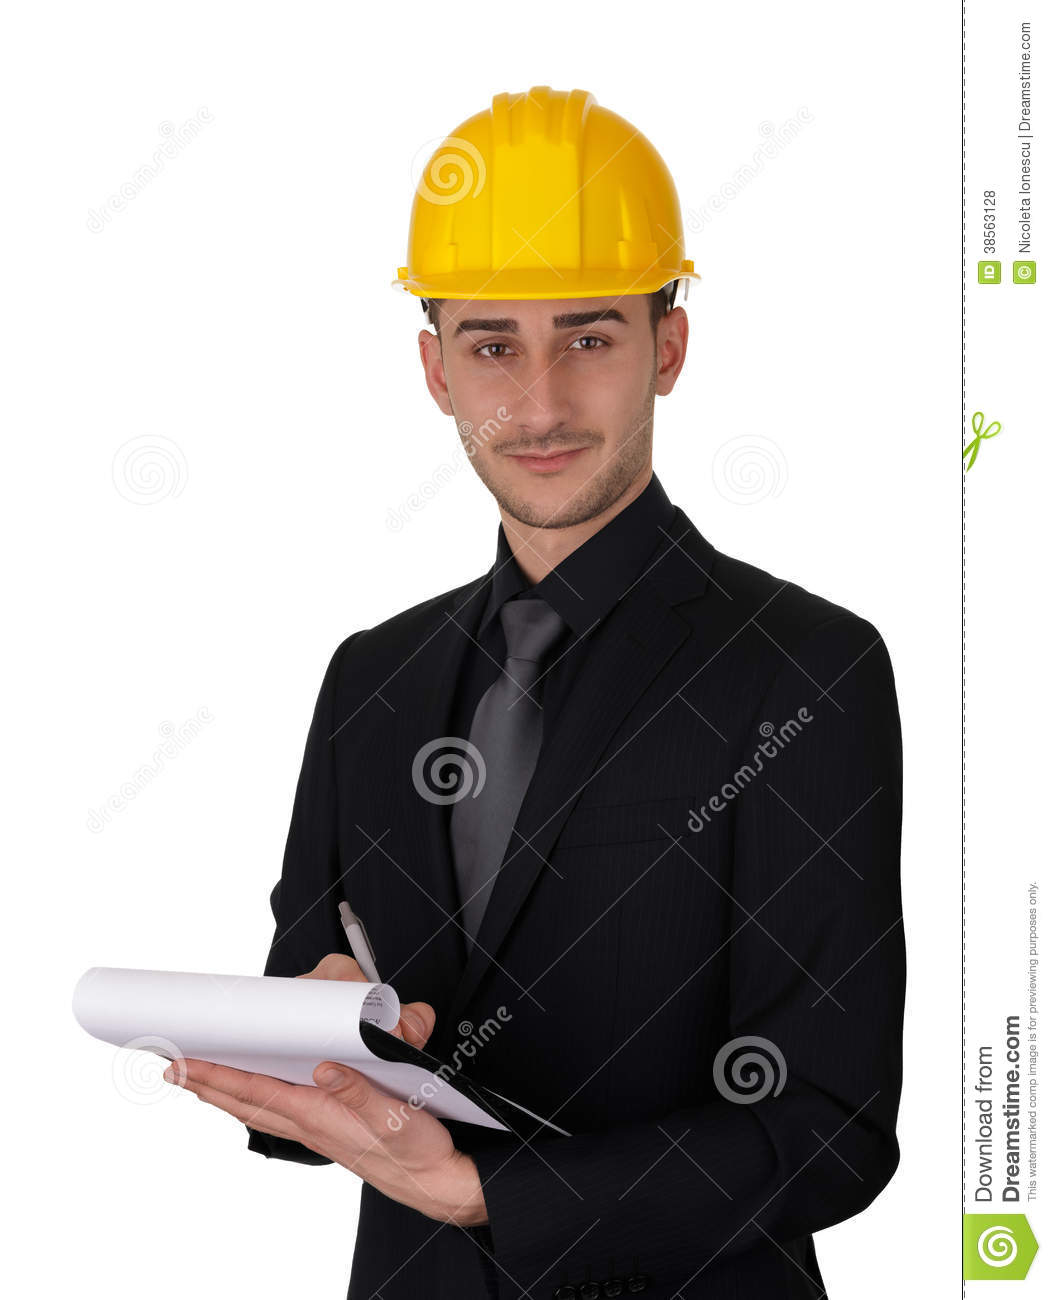Person_wearing_helmet: (373, 51, 744, 383)
